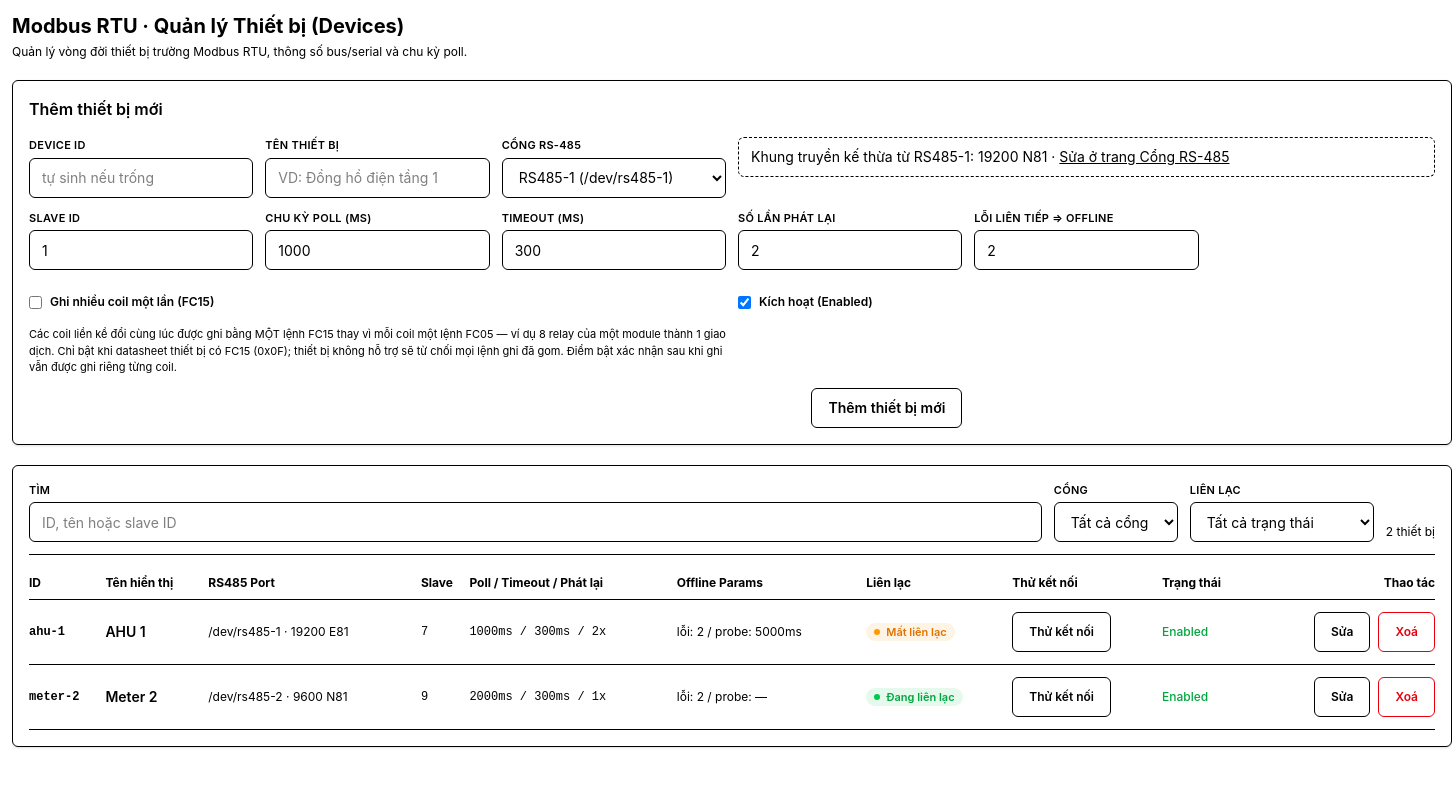
Test: DevicesPage › gom FC15 mặc định tắt, bật thì gửi số coil mỗi lệnh kèm giải thích
expect the text "ahu-1" is shown: met, box [29,600,105,664]
expect the checkbox labelled "Ghi nhiều coil một lần (FC15)" is not checked: met, box [29,296,42,308]
Type "CK508 04" into the field labelled "Tên thiết bị" at point(377, 178), box [265,158,490,198]
Click the button "Thêm thiết bị mới" at point(887, 408), box [812,388,962,428]
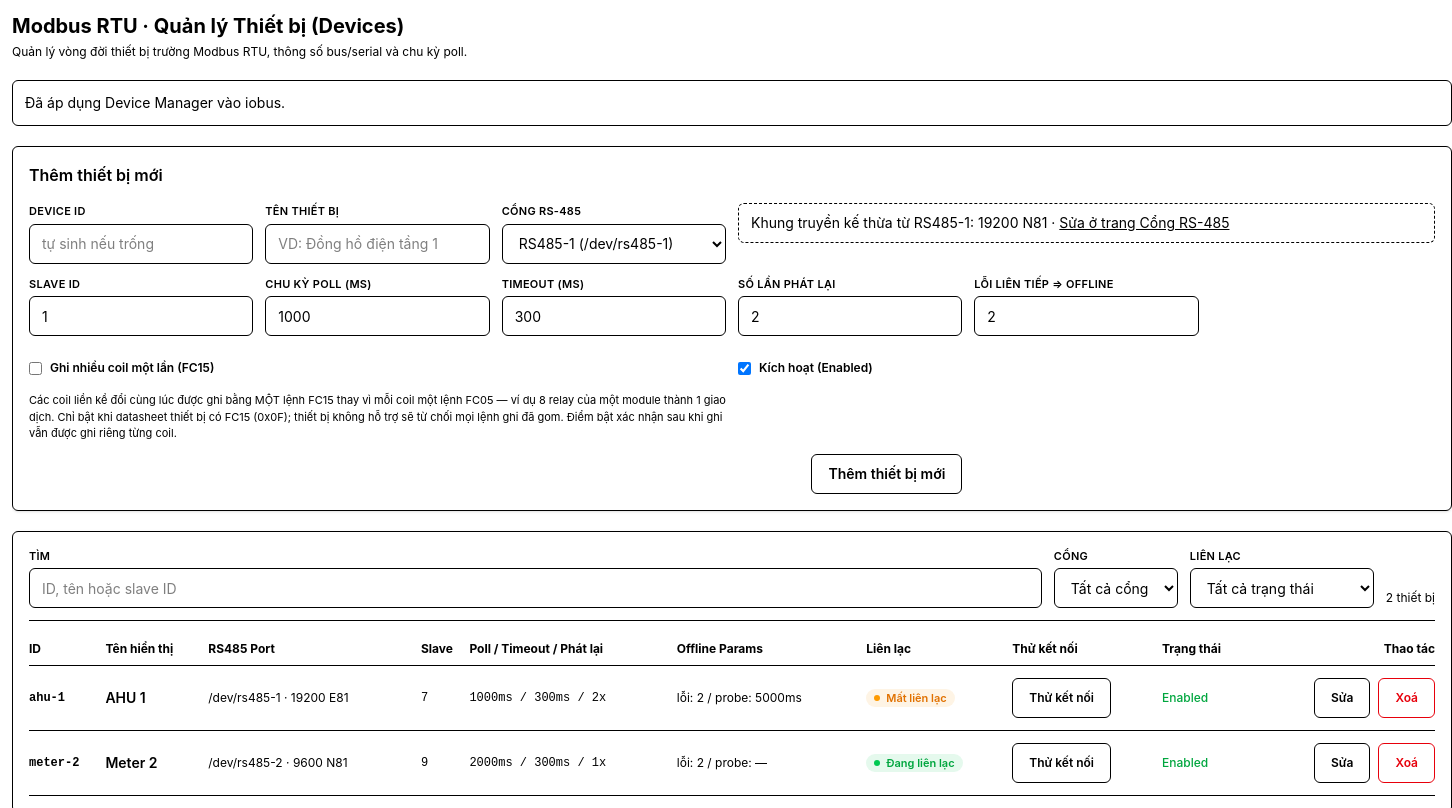
Type "CK508 05" into the field labelled "Tên thiết bị" at point(377, 244), box [265,224,490,264]
Click the checkbox labelled "Ghi nhiều coil một lần (FC15)" at point(36, 368), box [29,362,42,374]
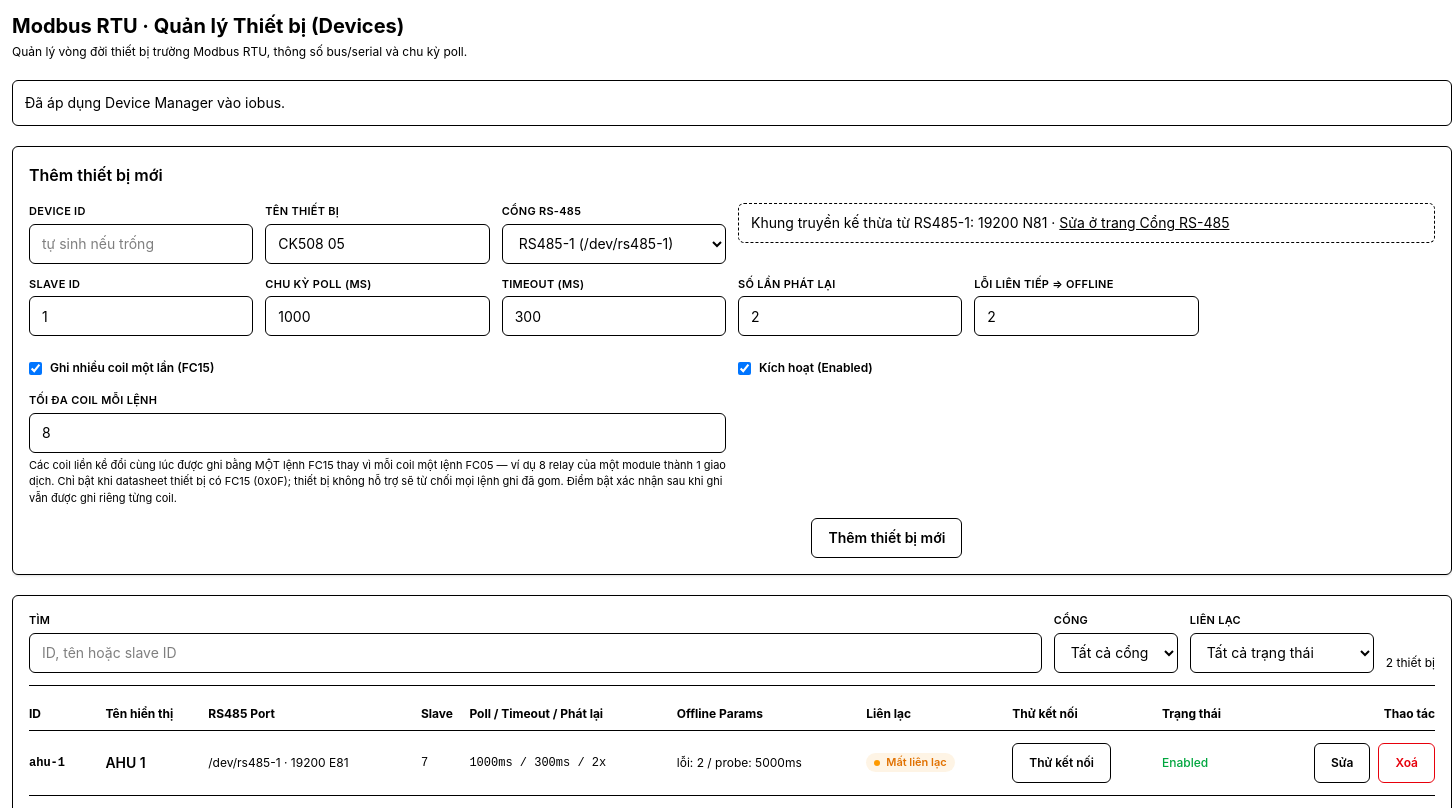
expect the number field labelled "Tối đa coil mỗi lệnh" holds "8": met
Replace the text in the number field labelled "Tối đa coil mỗi lệnh" with "16" at point(378, 432), box [29,412,726,452]
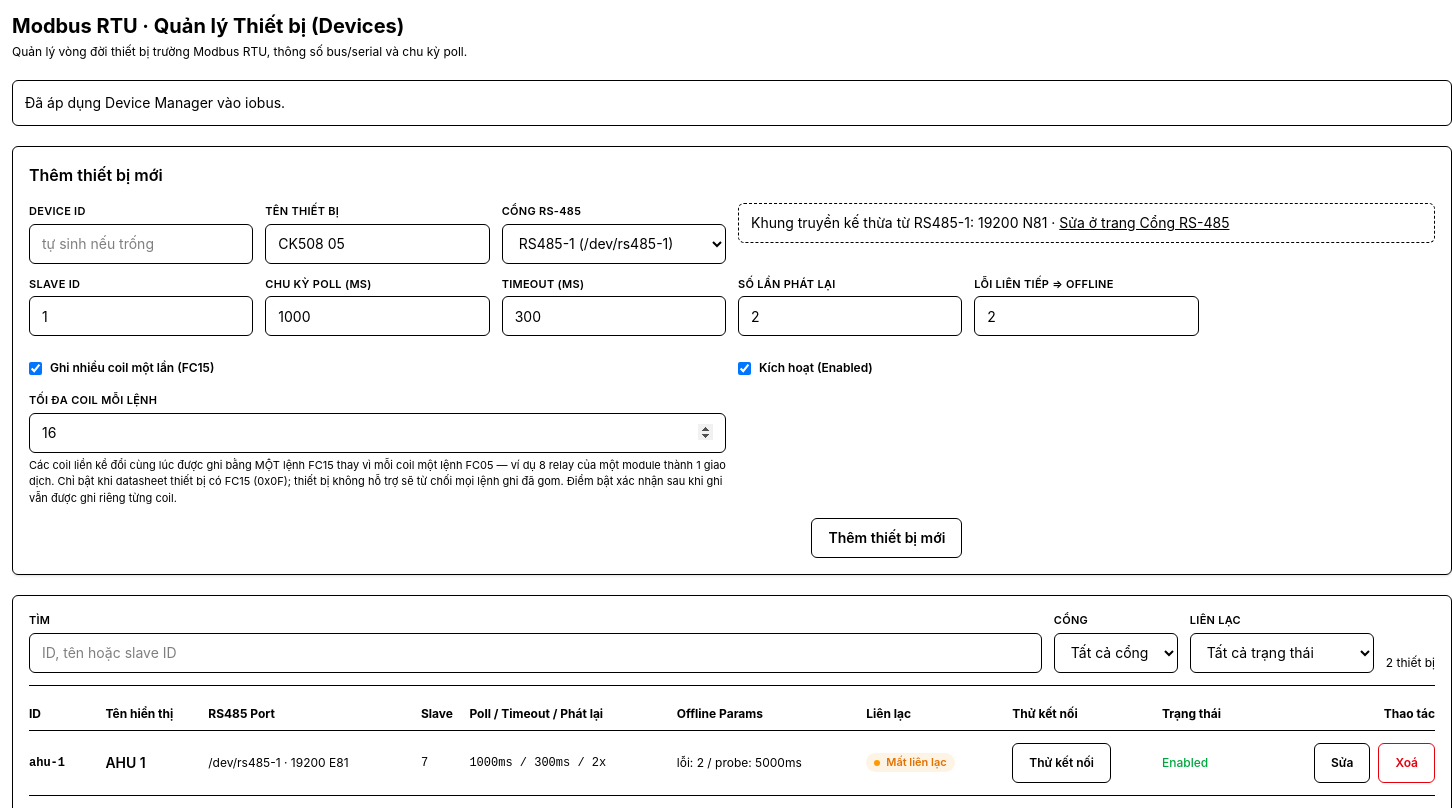
Click the button "Thêm thiết bị mới" at point(887, 538), box [812,518,962,558]
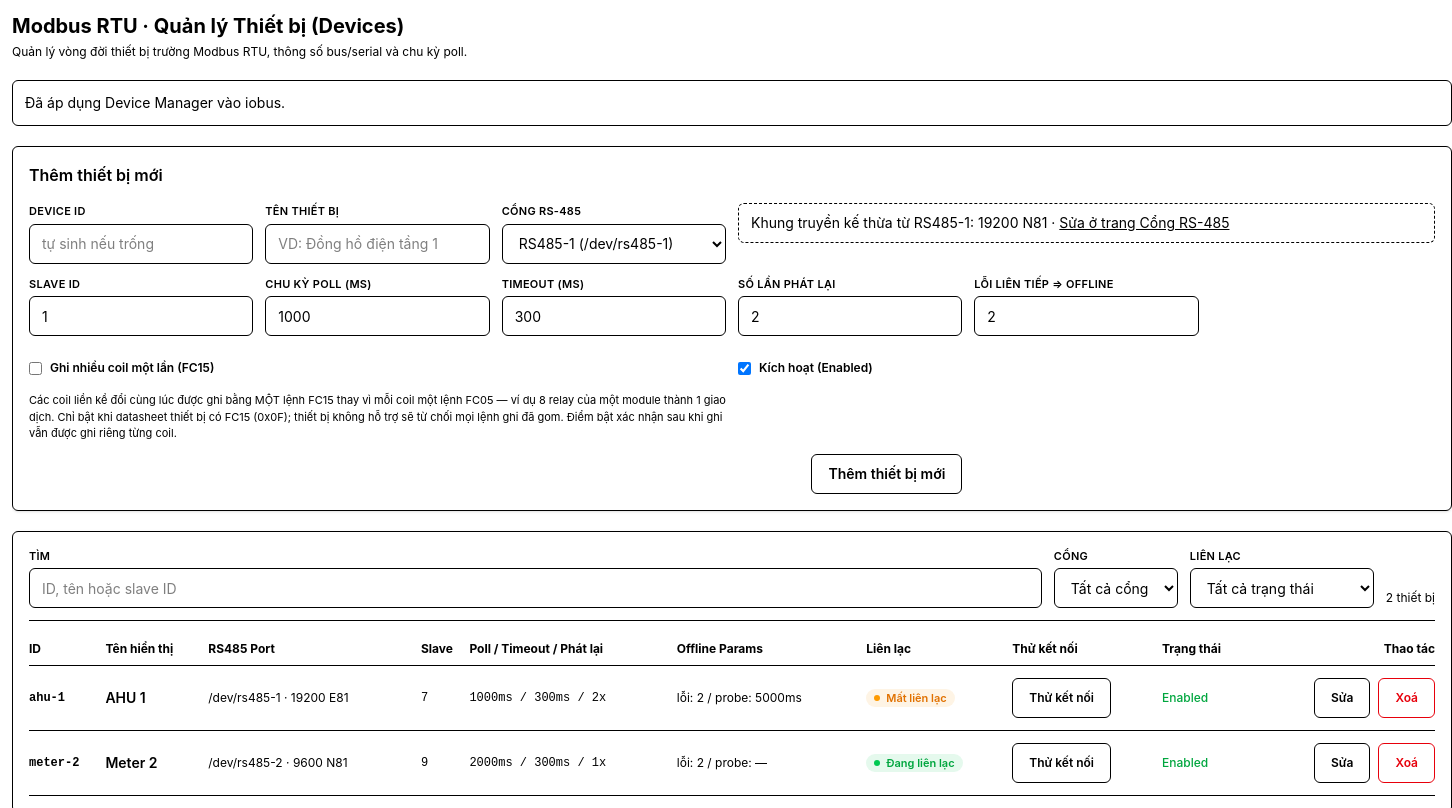
expect the checkbox labelled "Ghi nhiều coil một lần (FC15)" is not checked: met
Click the checkbox labelled "Ghi nhiều coil một lần (FC15)" at point(36, 368), box [29,362,42,374]
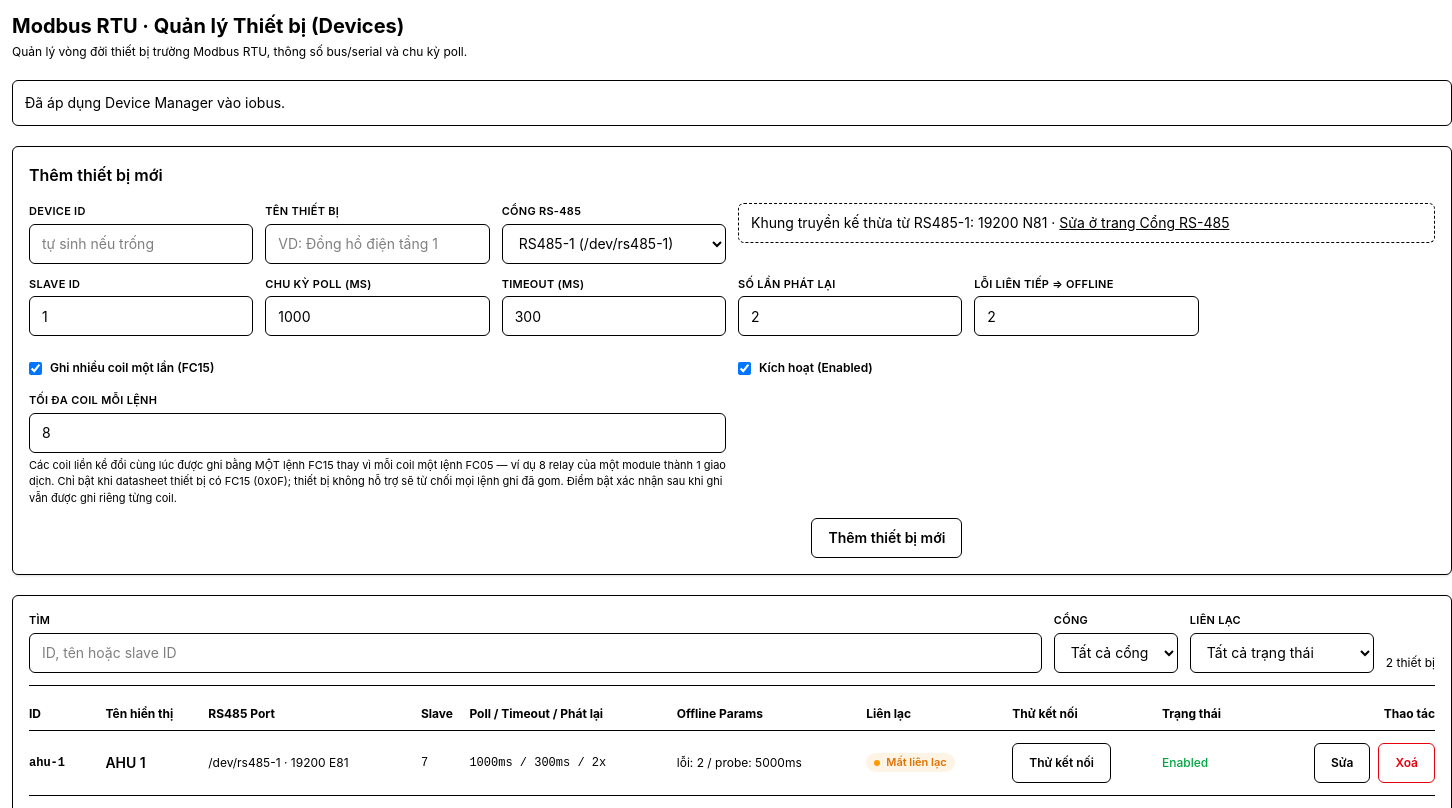
expect the number field labelled "Tối đa coil mỗi lệnh" is shown: met, box [29,412,726,452]
Click the checkbox labelled "Ghi nhiều coil một lần (FC15)" at point(36, 368), box [29,362,42,374]
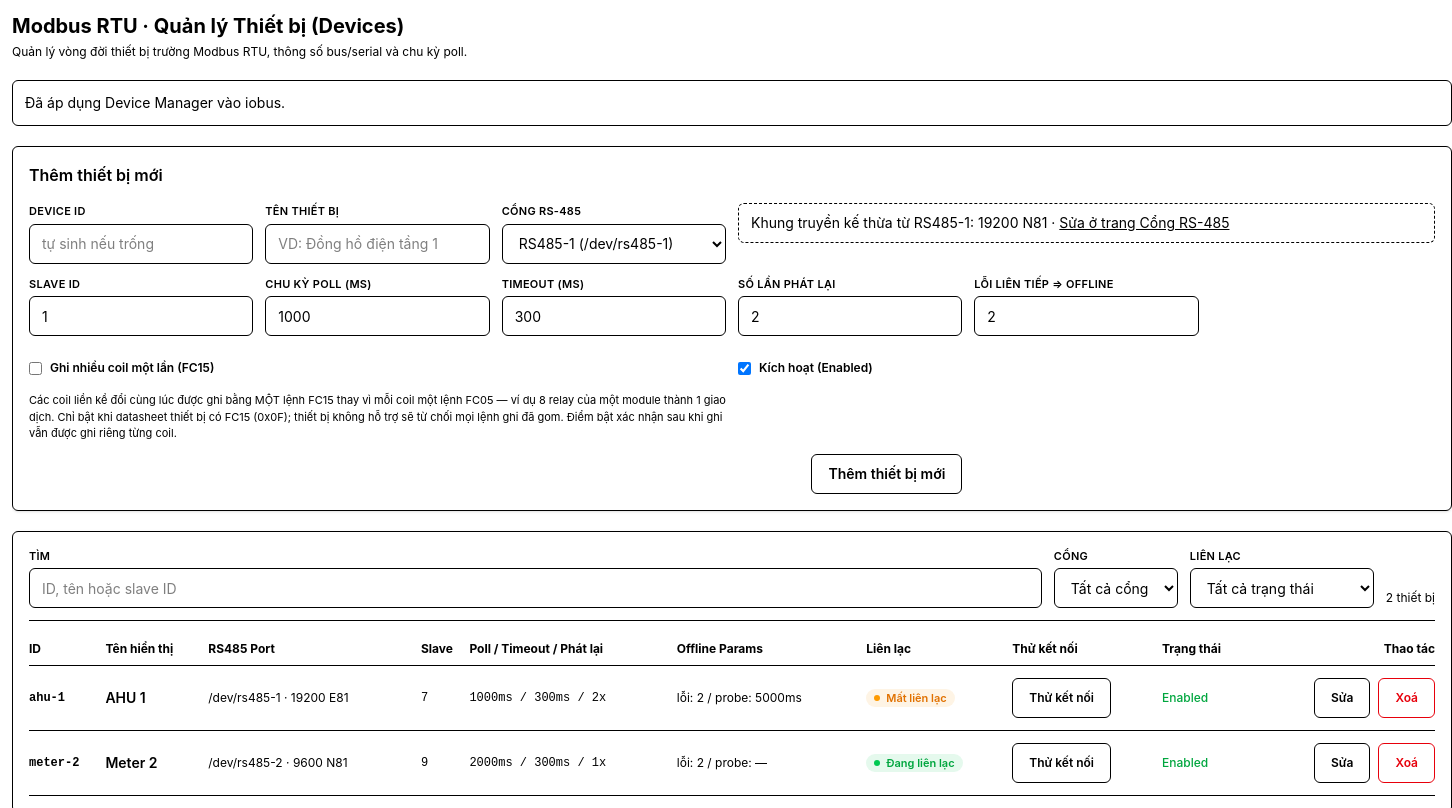
expect the text "Tối đa coil mỗi lệnh" is gone: met
